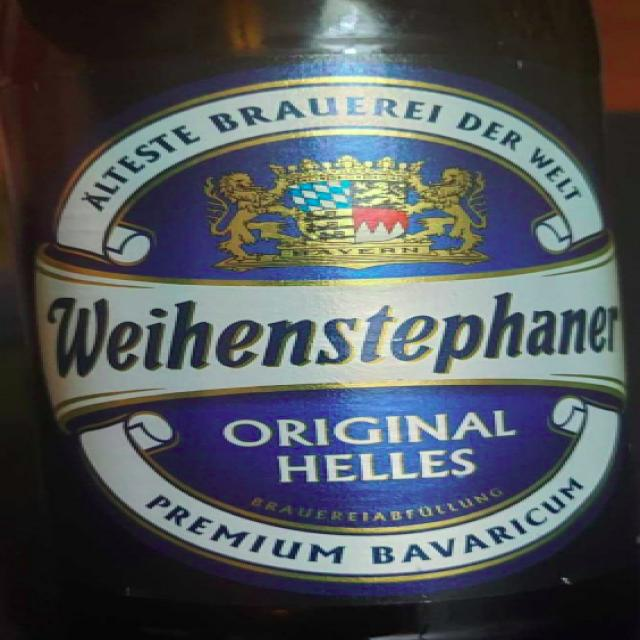Weihenstephaner Original: (0, 1, 640, 640)
